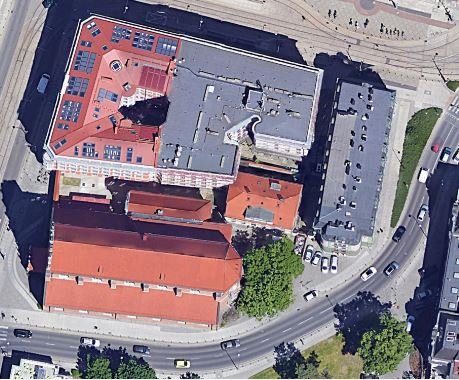block of flats: (36, 12, 328, 202), (309, 72, 399, 260)
church: (19, 188, 247, 335)
